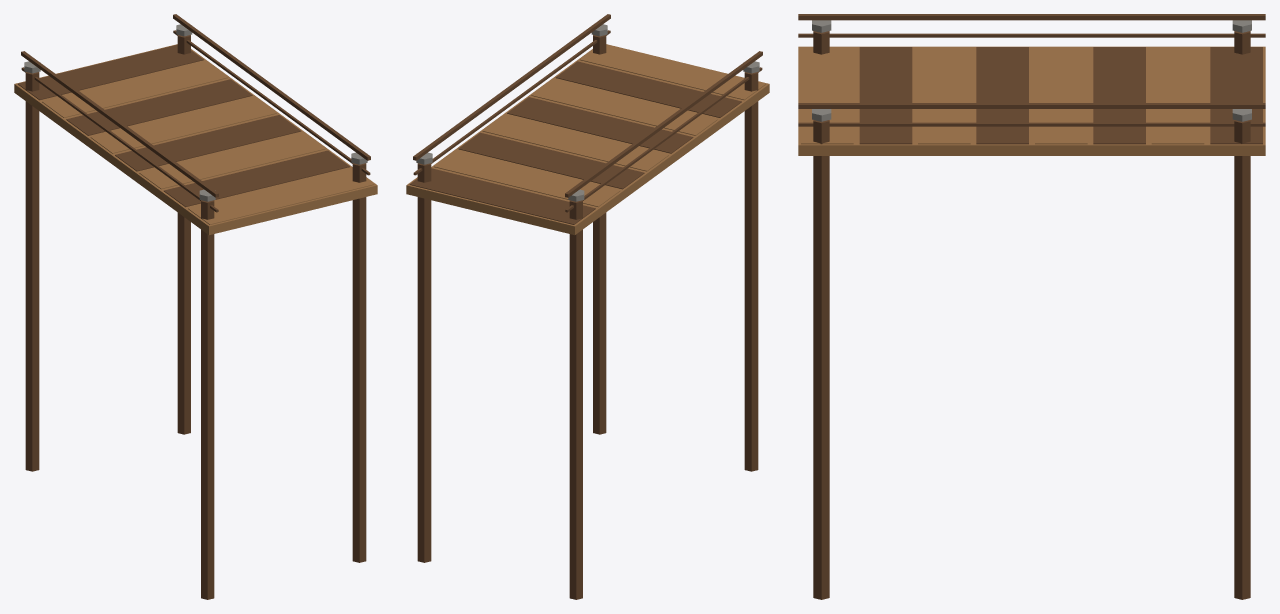
File: pier.glb
3 renders of one model, left to right at view 1: azimuth 30°, elevation 25°; view 2: azimuth 150°, elevation 25°; view 3: azimuth 270°, elevation 25°, orthographic. The views are drawn at different scales.
Parts seen in each view (by area): view 1: pier; view 2: pier; view 3: pier.
Part boxes in pixels (x1,y1,x2,y2): pier: (14, 14, 377, 599); pier: (406, 14, 769, 599); pier: (798, 14, 1265, 599).
Size of the model in its own units: 4 by 9.29 by 8.
